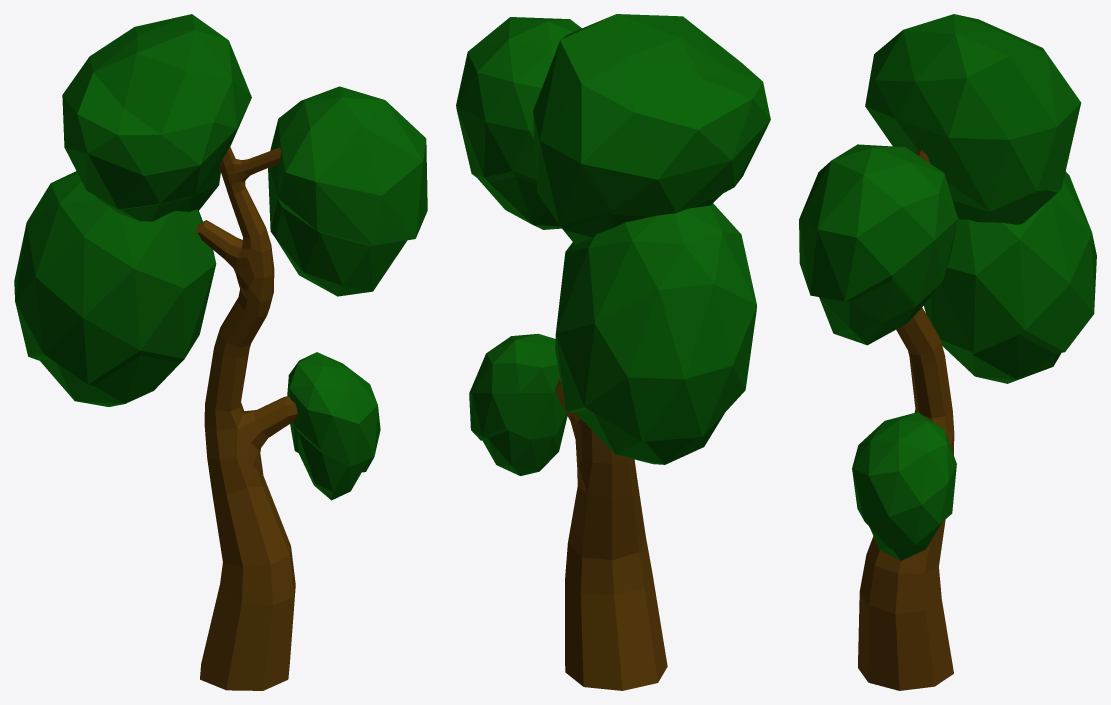
Rendered from tree_oak.fbx.
3 renders of one model, left to right at view 1: azimuth 30°, elevation 25°; view 2: azimuth 150°, elevation 25°; view 3: azimuth 270°, elevation 25°, orthographic. The views are drawn at different scales.
Parts seen in each view (by area): view 1: tree_oak; view 2: tree_oak; view 3: tree_oak.
Part boxes in pixels (x1,y1,x2,y2): tree_oak: [14, 14, 427, 690]; tree_oak: [456, 14, 770, 690]; tree_oak: [799, 14, 1096, 690].
Size of the model in its own units: 2.41 by 4.45 by 1.92.
